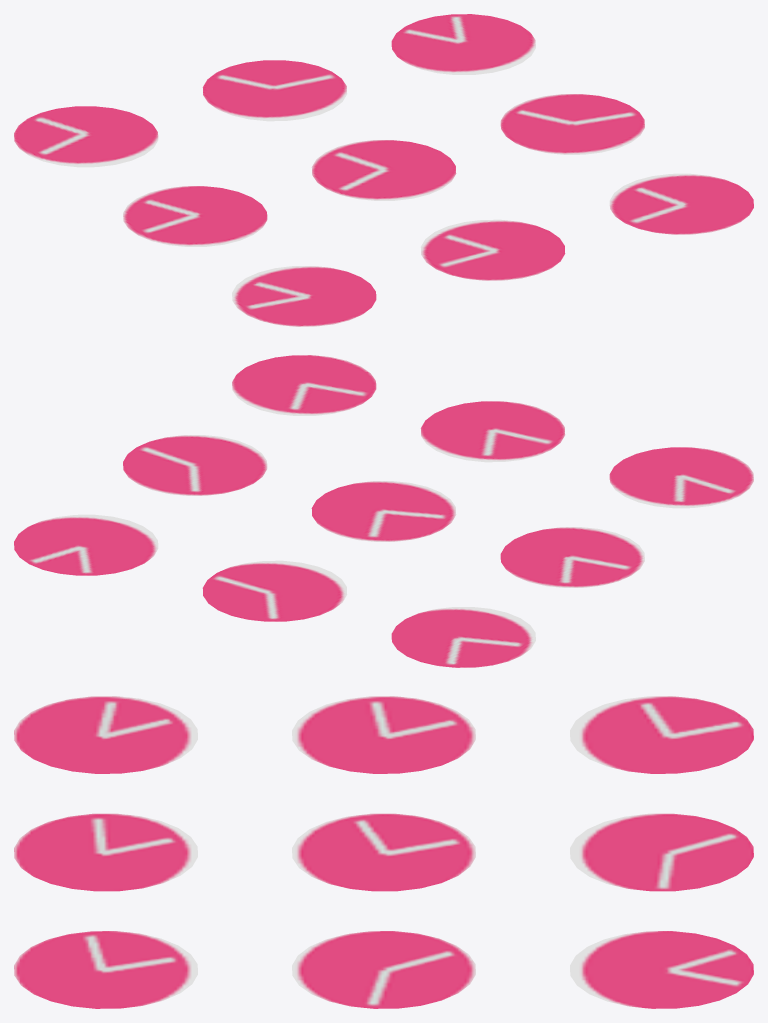
Rendered from model_small.dae.
The picture shows the model from 3 angles, top to bottom: view 1: azimuth 30°, elevation 25°; view 2: azimuth 150°, elevation 25°; view 3: azimuth 270°, elevation 25°; orthographic projection. The views are drawn at different scales.
Parts seen in each view (by area): view 1: SketchUp (×9); view 2: SketchUp (×9); view 3: SketchUp (×9).
Part boxes in pixels (bbox=[...]): SketchUp (×9): bbox=[14, 14, 753, 326]; SketchUp (×9): bbox=[14, 355, 753, 667]; SketchUp (×9): bbox=[14, 696, 753, 1008].
Bounding box in the file's own units: 31.95 × 31.95 × 0.
1 material, 1 textured.
